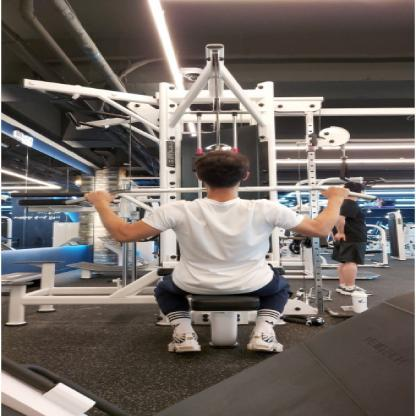Lat Pull Down: (13, 33, 391, 372)
